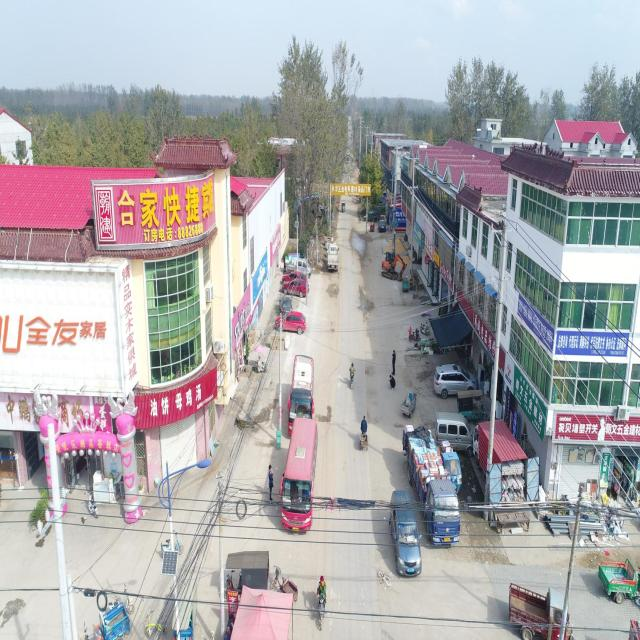car: (389, 489, 421, 577)
person: (316, 575, 326, 616), (360, 414, 368, 450), (268, 464, 274, 502), (349, 361, 355, 389), (391, 349, 396, 375)
tree: (270, 32, 363, 260), (444, 54, 531, 144)
